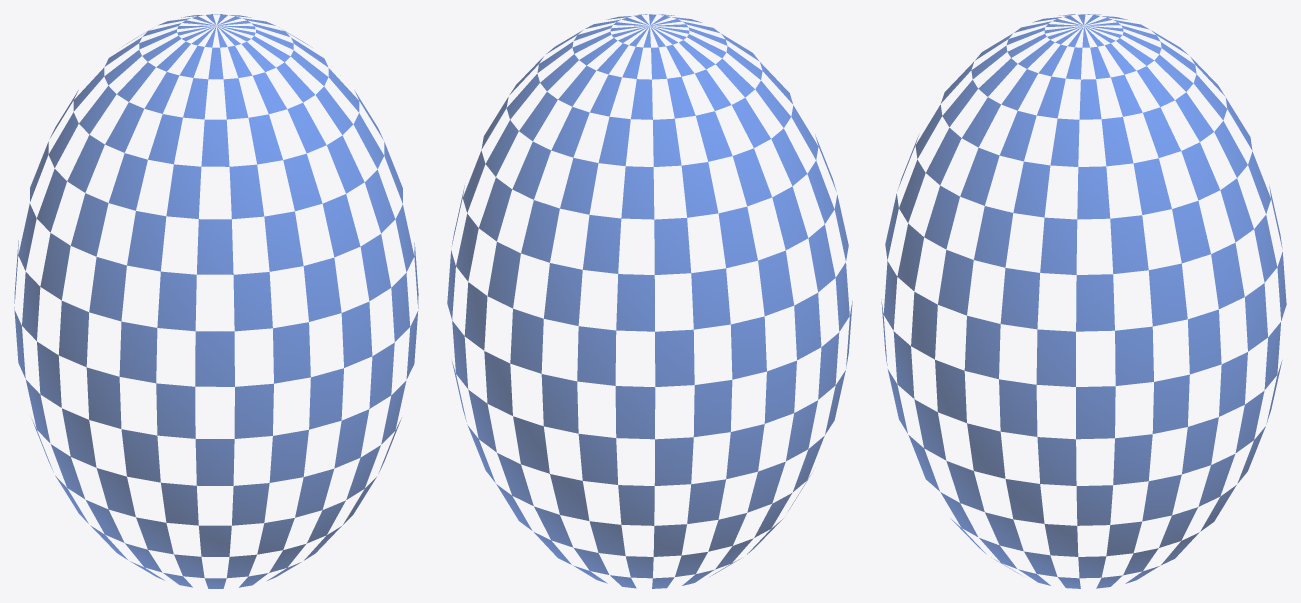
Rendered from egg_c2.glb.
3 views of the same model, side by side, from view 1: azimuth 30°, elevation 25°; view 2: azimuth 150°, elevation 25°; view 3: azimuth 270°, elevation 25° (orthographic).
Visible parts, largest first — view 1: egg1_2; view 2: egg1_2; view 3: egg1_2.
Boxes of the visible parts, <box> form: egg1_2: <box>14,14,418,588</box>; egg1_2: <box>447,14,852,588</box>; egg1_2: <box>881,14,1286,588</box>.
Size of the model in its own units: 0.7994 by 1.2 by 0.7994.
